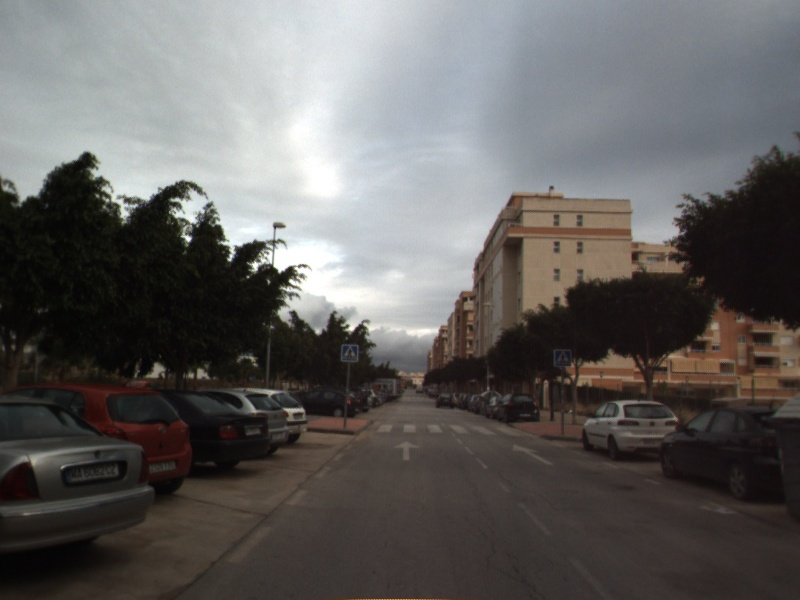STRAIGHT: (511, 443, 554, 466), (392, 439, 422, 462)
